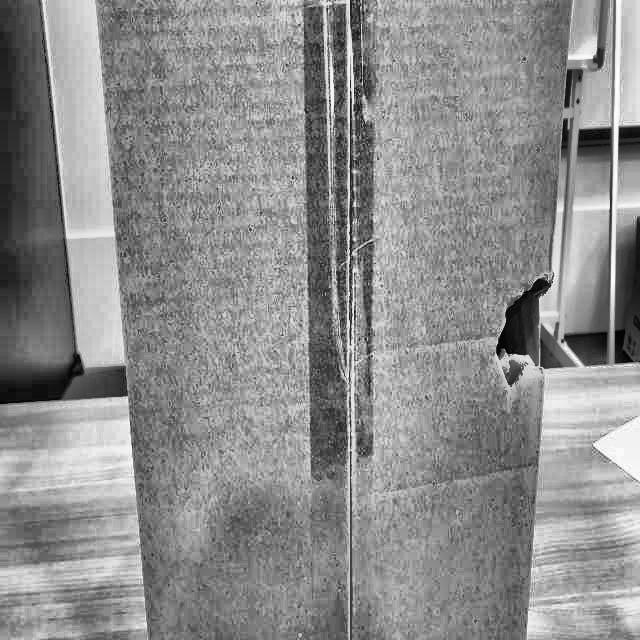box: (87, 0, 588, 639)
hole: (488, 254, 548, 384)
